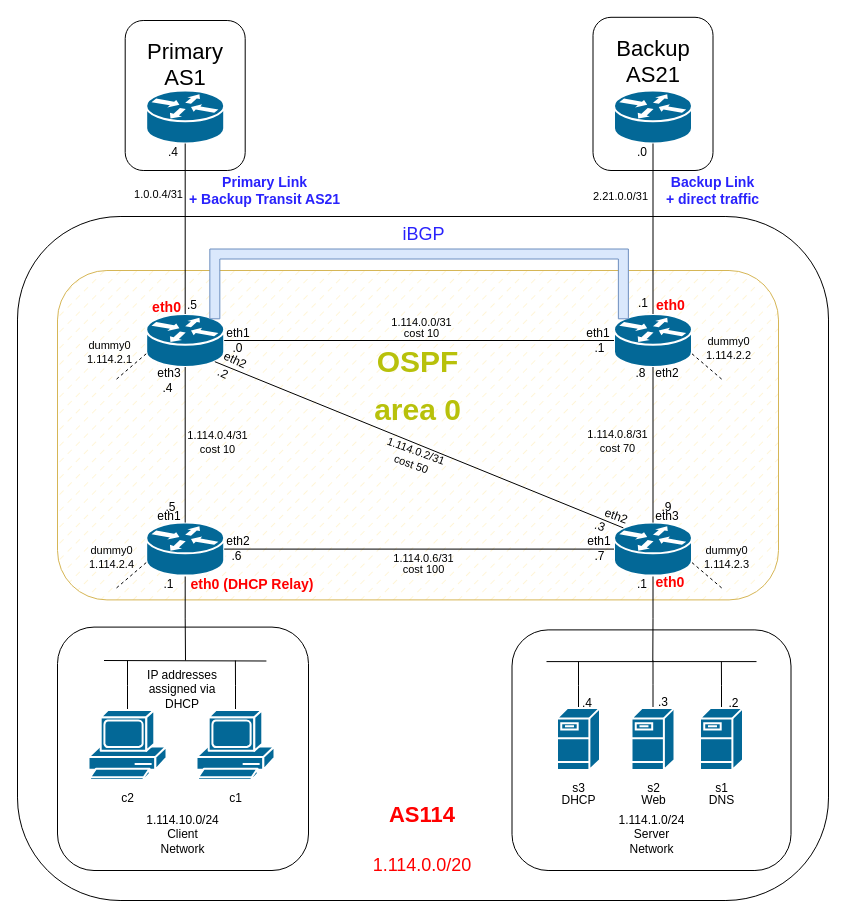
This 846x919 diagram has some shape labels left out. The shapes that lost their labels are listed below. From the top down, each one's centre as x and y in pixels, then its label:
At (x=185, y=340): "r1".
At (x=652, y=340): "r2".
At (x=185, y=548): "r4".
At (x=652, y=548): "r3".
